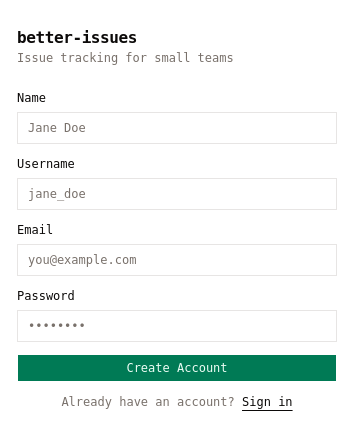
Scenario: sign-up page › shows an inline error when the auth client returns an error payload
Type "Better Issues" into the field labelled "Name". click: (177, 128)
box: [17,112,337,144]
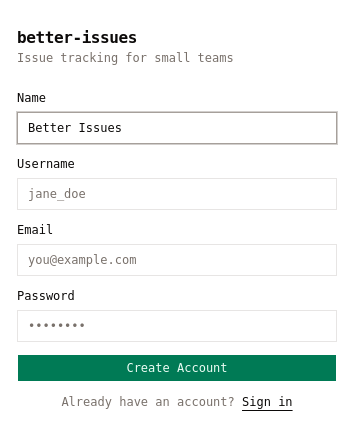
Type "better-issues" into the field labelled "Username". click: (177, 194)
box: [17,178,337,210]
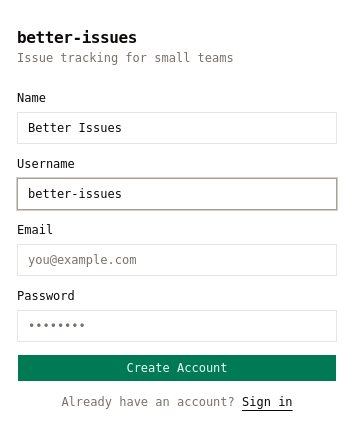
Type "owner@example.com" into the field labelled "Email". click: (177, 260)
box: [17,244,337,276]
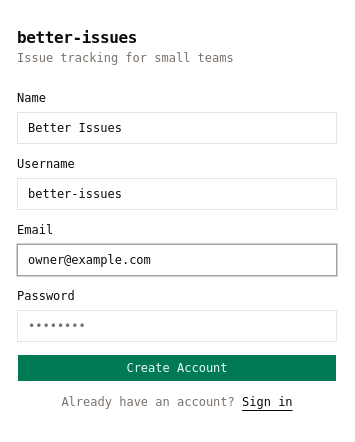
Type "SuperSecret123!" into the password field labelled "Password". click: (177, 326)
box: [17,310,337,342]
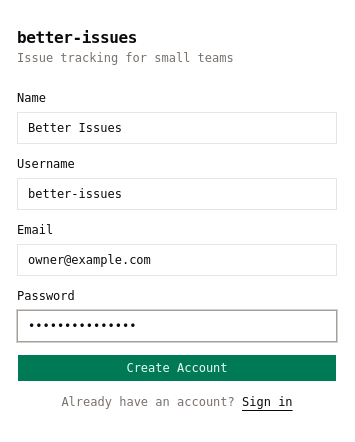
Click the button "Create Account". click: (177, 368)
box: [17,354,337,382]
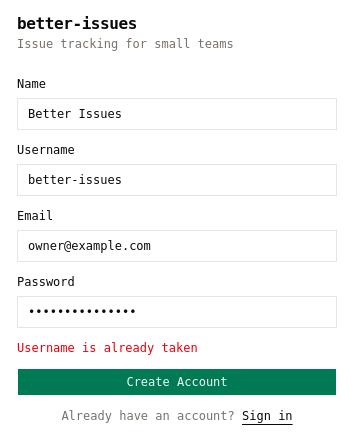
Check: the text "Username is already taken" is shown, box [17,341,198,355]
